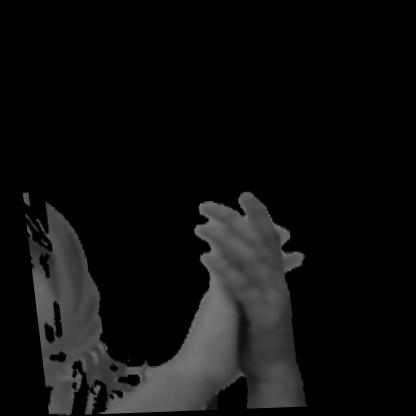clap: (139, 171, 319, 409)
